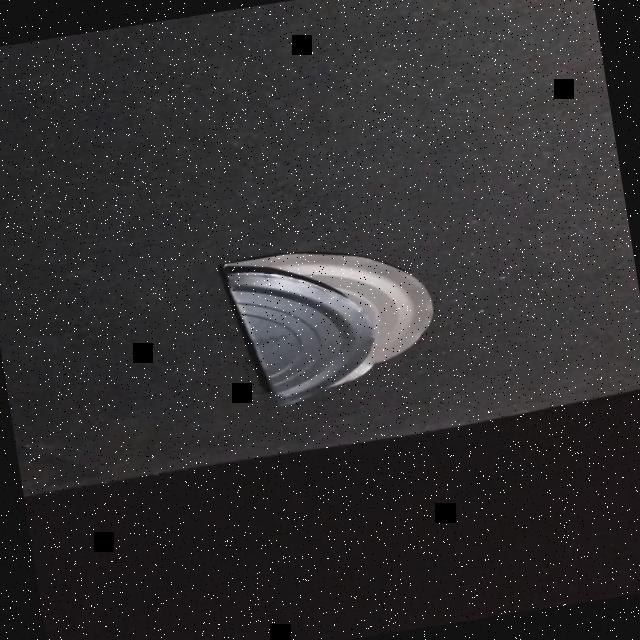can: (218, 227, 446, 417)
